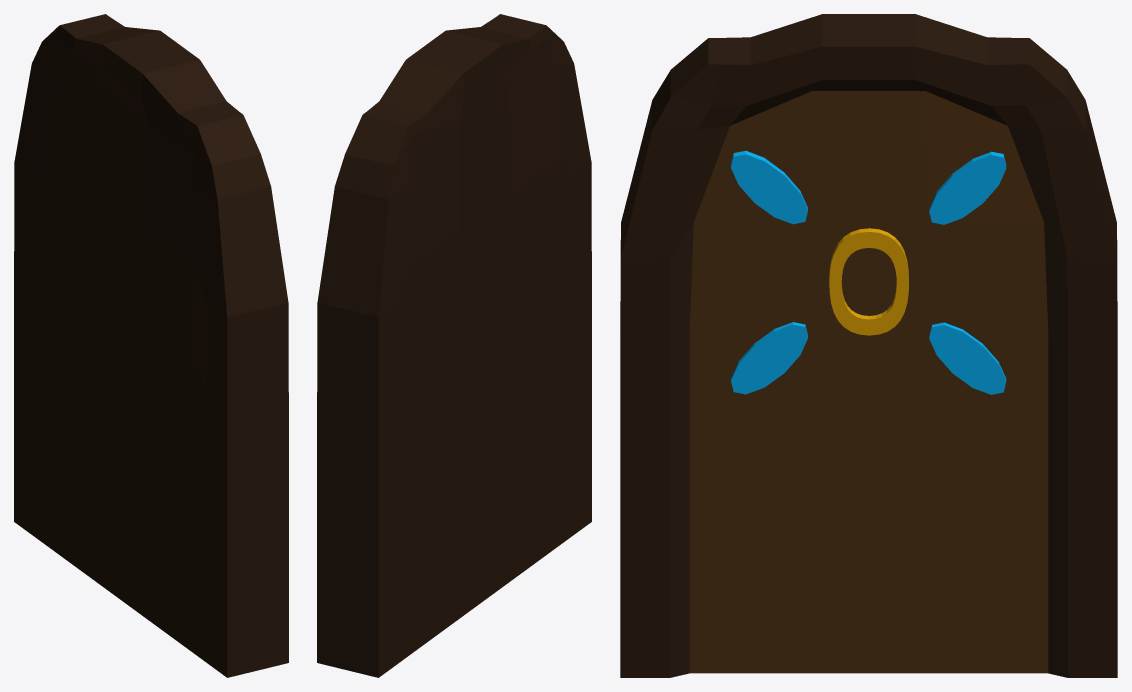
The model's file is Door0.glb.
3 views of the same model, side by side, from view 1: azimuth 30°, elevation 25°; view 2: azimuth 150°, elevation 25°; view 3: azimuth 270°, elevation 25° (orthographic). The views are drawn at different scales.
Visible parts, largest first — view 1: door1; view 2: door1; view 3: door1, Cylinder.001.
Boxes of the visible parts, left/top/right/bottom form: door1: left=14, top=14, right=288, bottom=677; door1: left=317, top=14, right=591, bottom=677; door1: left=620, top=14, right=1117, bottom=677; Cylinder.001: left=829, top=228, right=908, bottom=335.
Size of the model in its own units: 0.3892 by 3.27 by 2.34.
